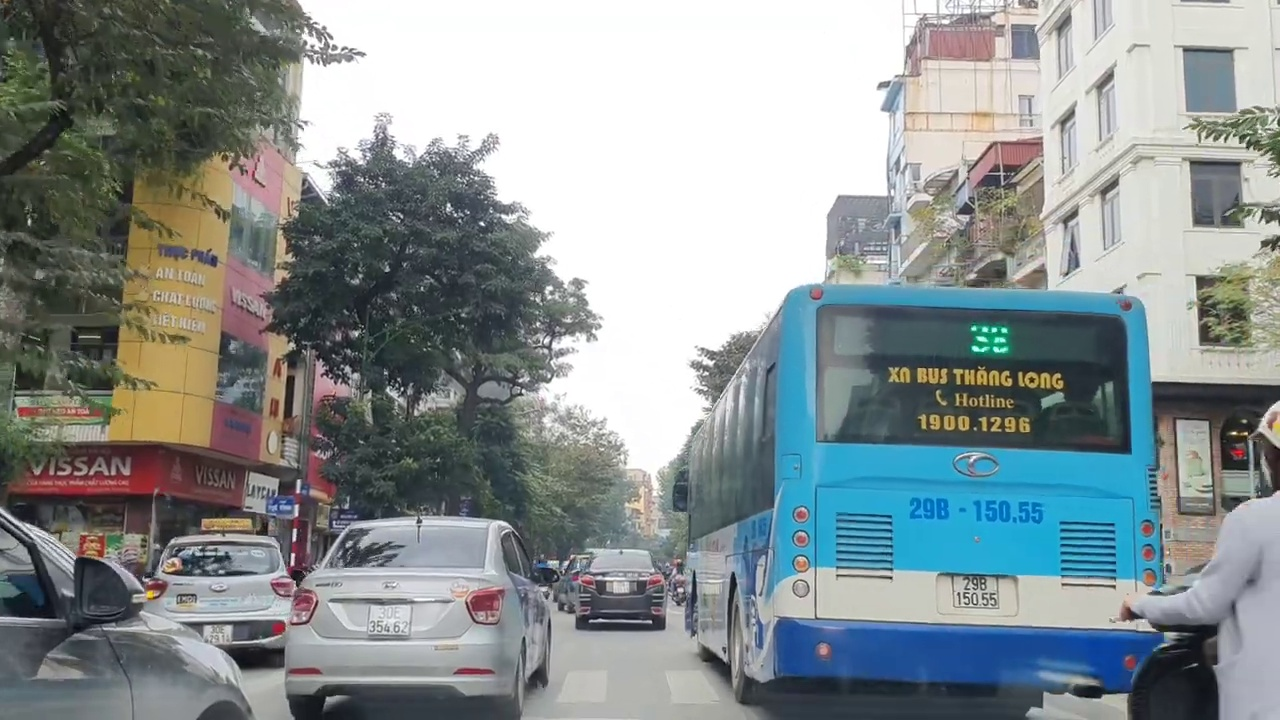vehicle-plate: (944, 573, 1005, 612)
